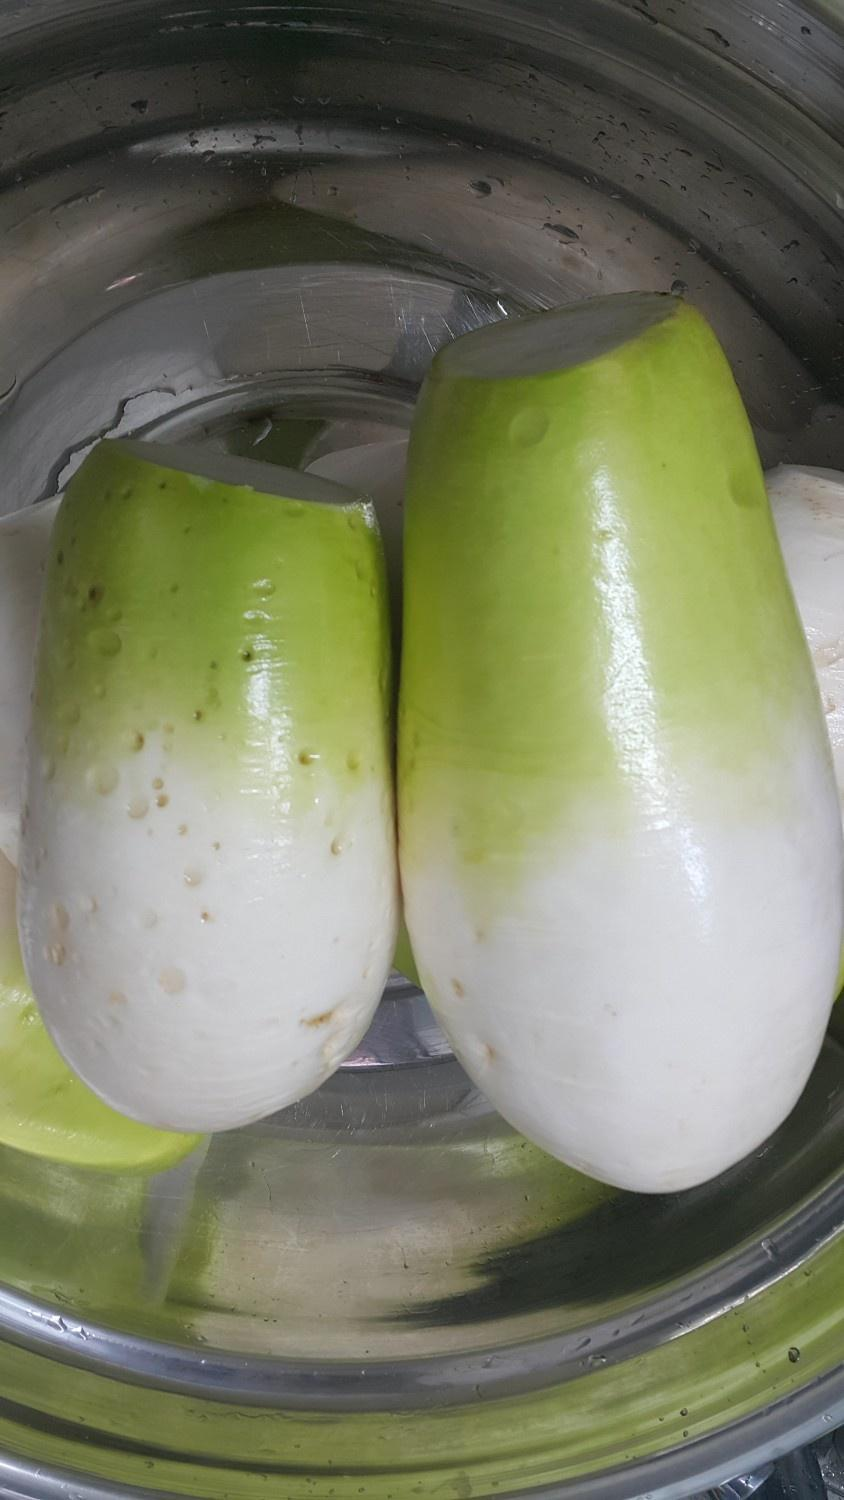radish: (99, 786, 482, 1500), (583, 750, 844, 1500)
